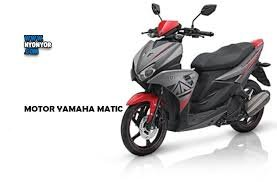motor: (121, 5, 266, 156)
